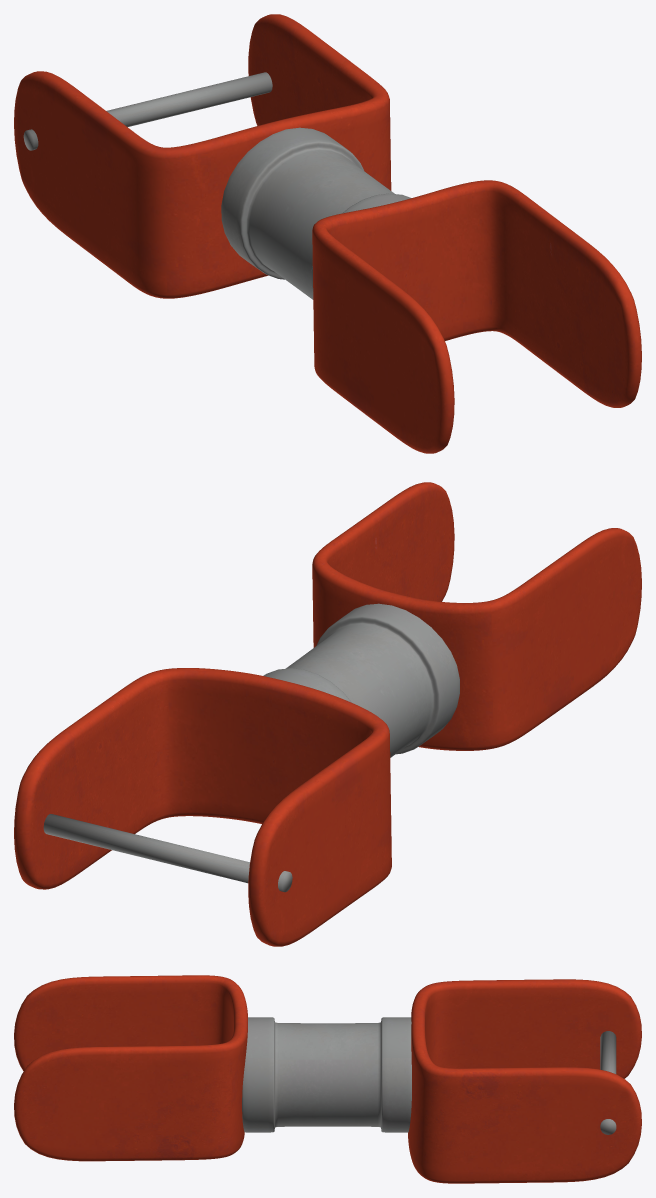
The model's file is arm1.gltf.
The picture shows the model from 3 angles, top to bottom: view 1: azimuth 30°, elevation 25°; view 2: azimuth 150°, elevation 25°; view 3: azimuth 270°, elevation 25°; orthographic projection. The views are drawn at different scales.
Visible parts, largest first — view 1: Plane.004; view 2: Plane.004; view 3: Plane.004.
Boxes of the visible parts, x1,y1,x2,y2 form: Plane.004: (14,14,641,453); Plane.004: (14,482,641,946); Plane.004: (14,975,641,1183).
Bounding box in the file's own units: 0.7555 × 0.4639 × 2.07.
Materials: 3 (3 with a texture image).
